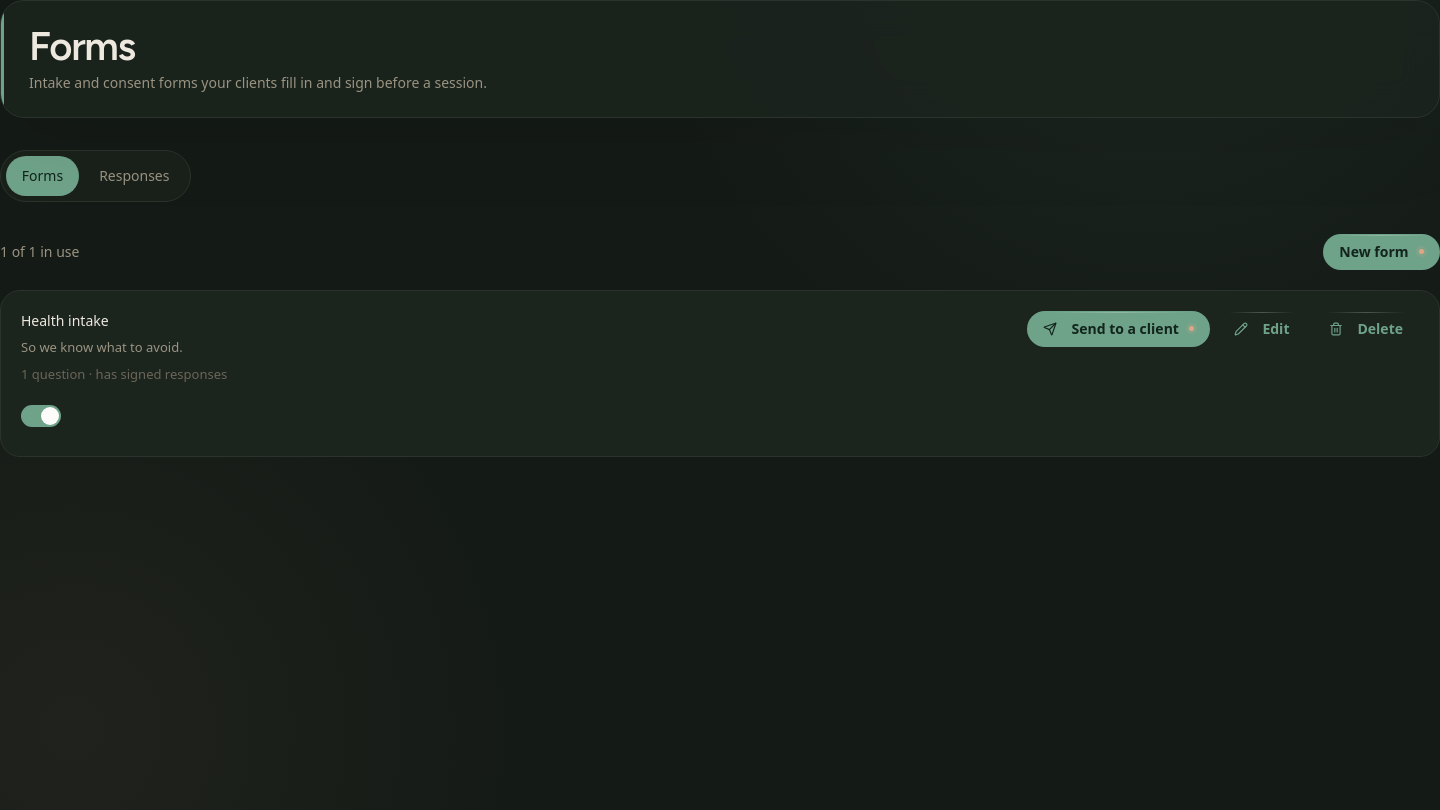
Test: FormsPage › the builder › refuses to save a form with no questions
Expected: the heading "Health intake" is shown, [21,311,109,331]
Click the button "New form" at [1382, 252], box [1323,234,1439,270]
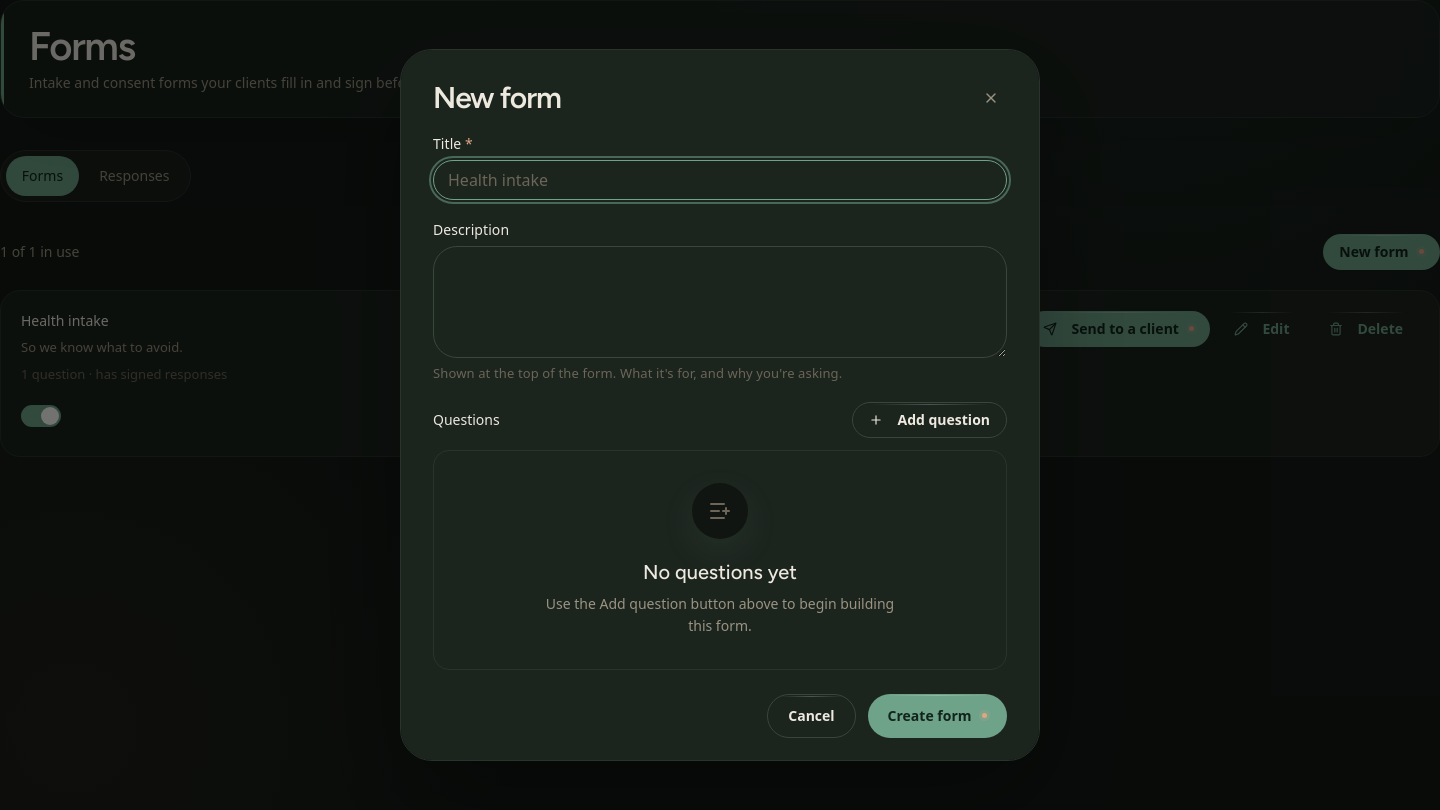
Type "Consent" into the field labelled "Title *" at [720, 180], box [433,160,1007,200]
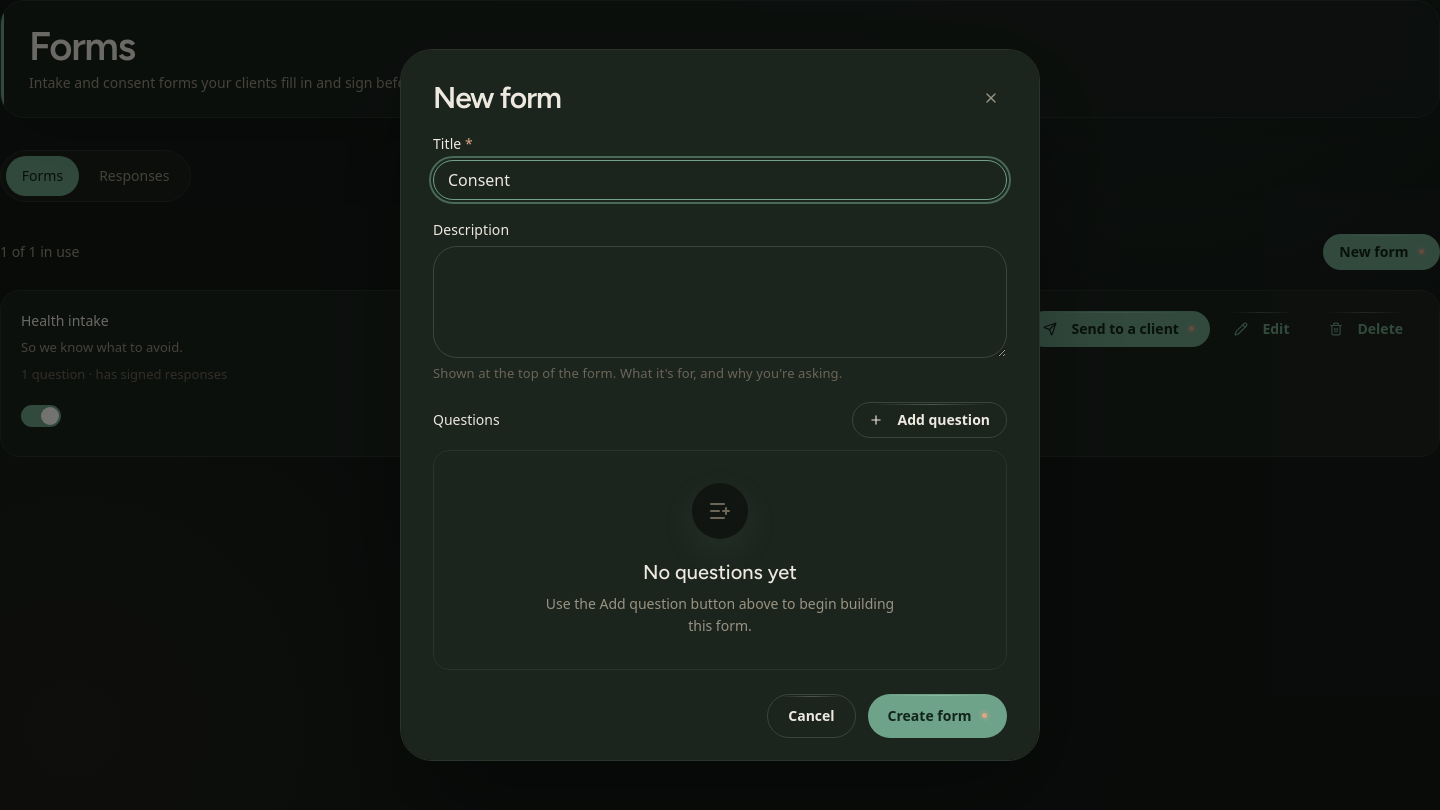
Click the button "Create form" at [937, 716], box [868,694,1007,738]
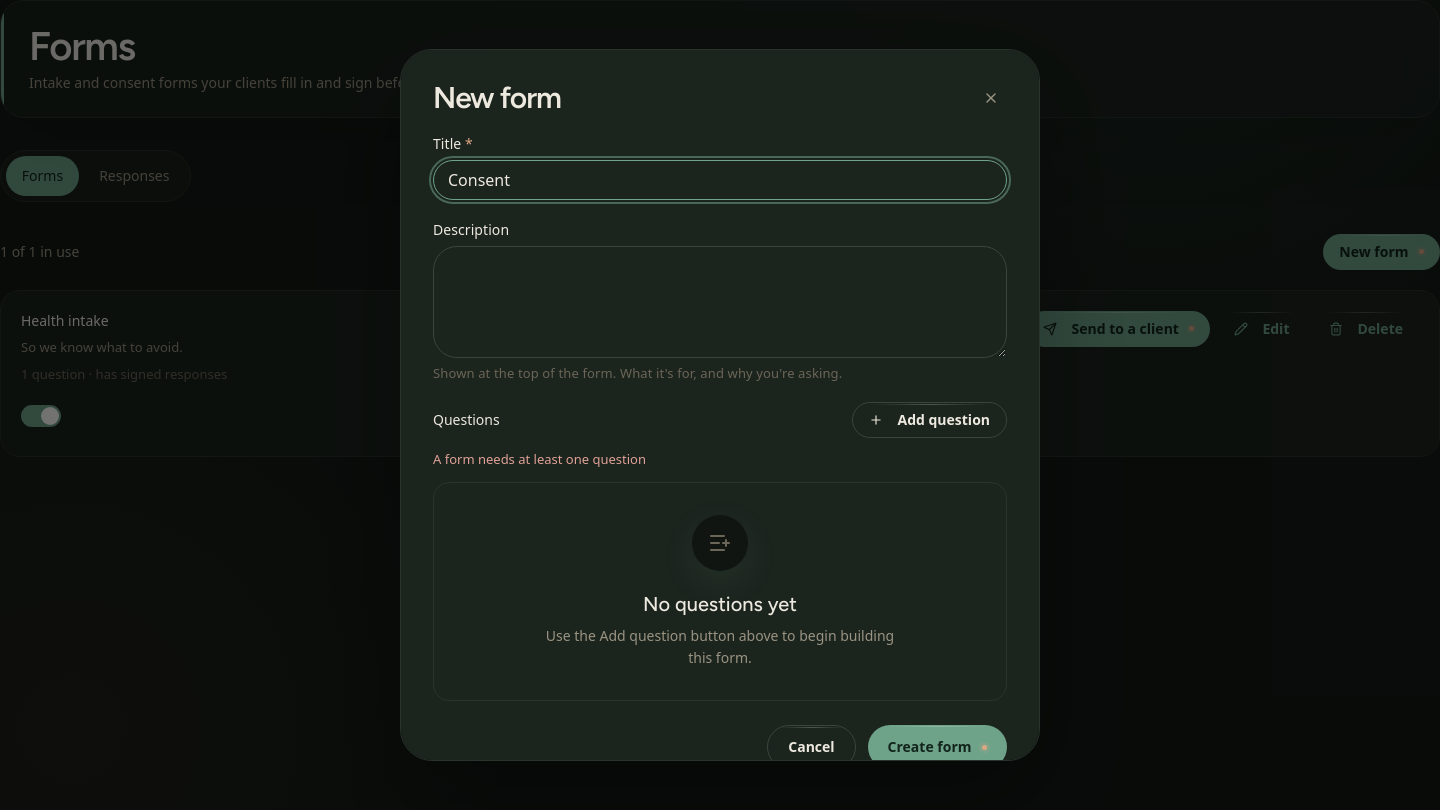
Expected: the text "A form needs at least one question" is shown, [433,450,646,468]
